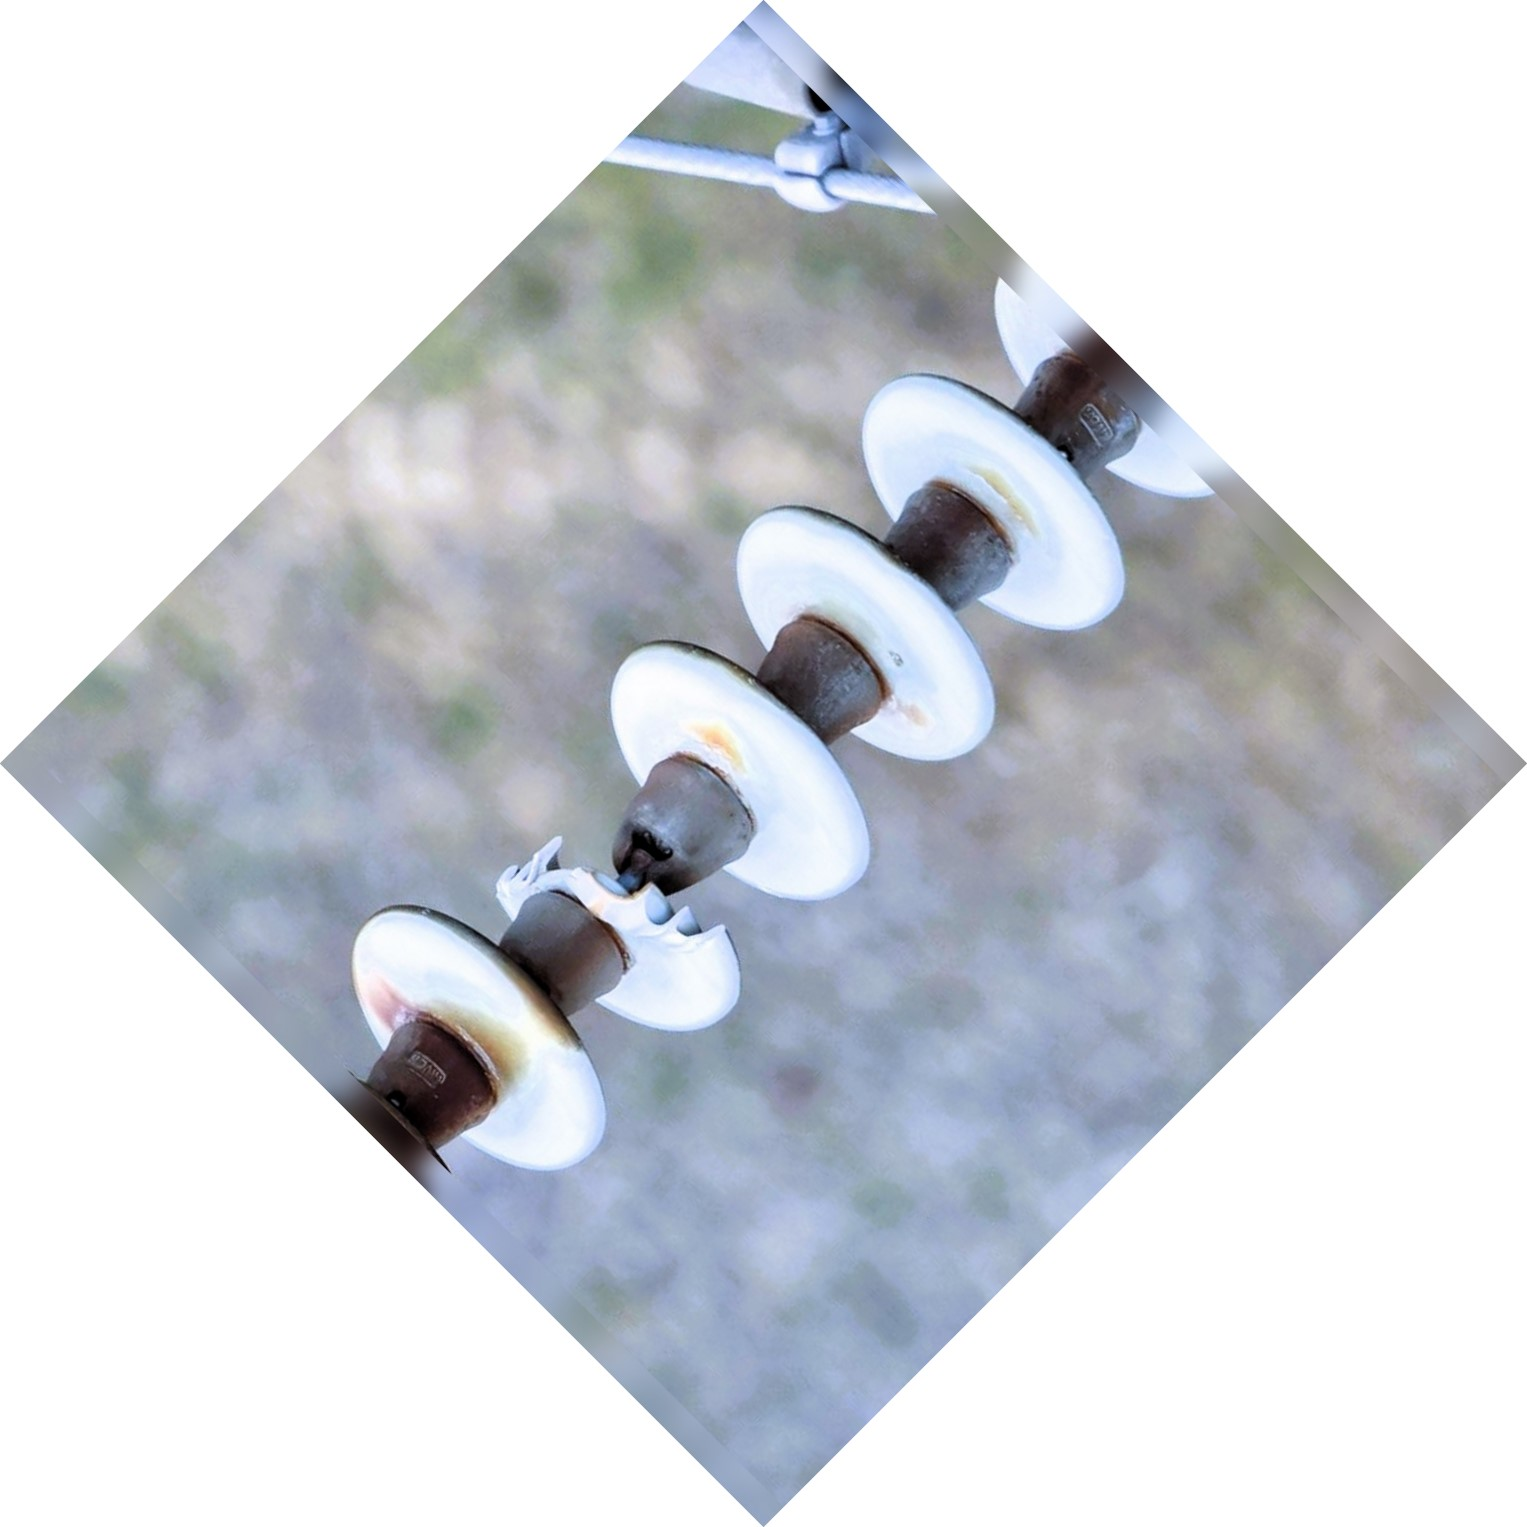insulator breakage: (470, 822, 762, 1028)
